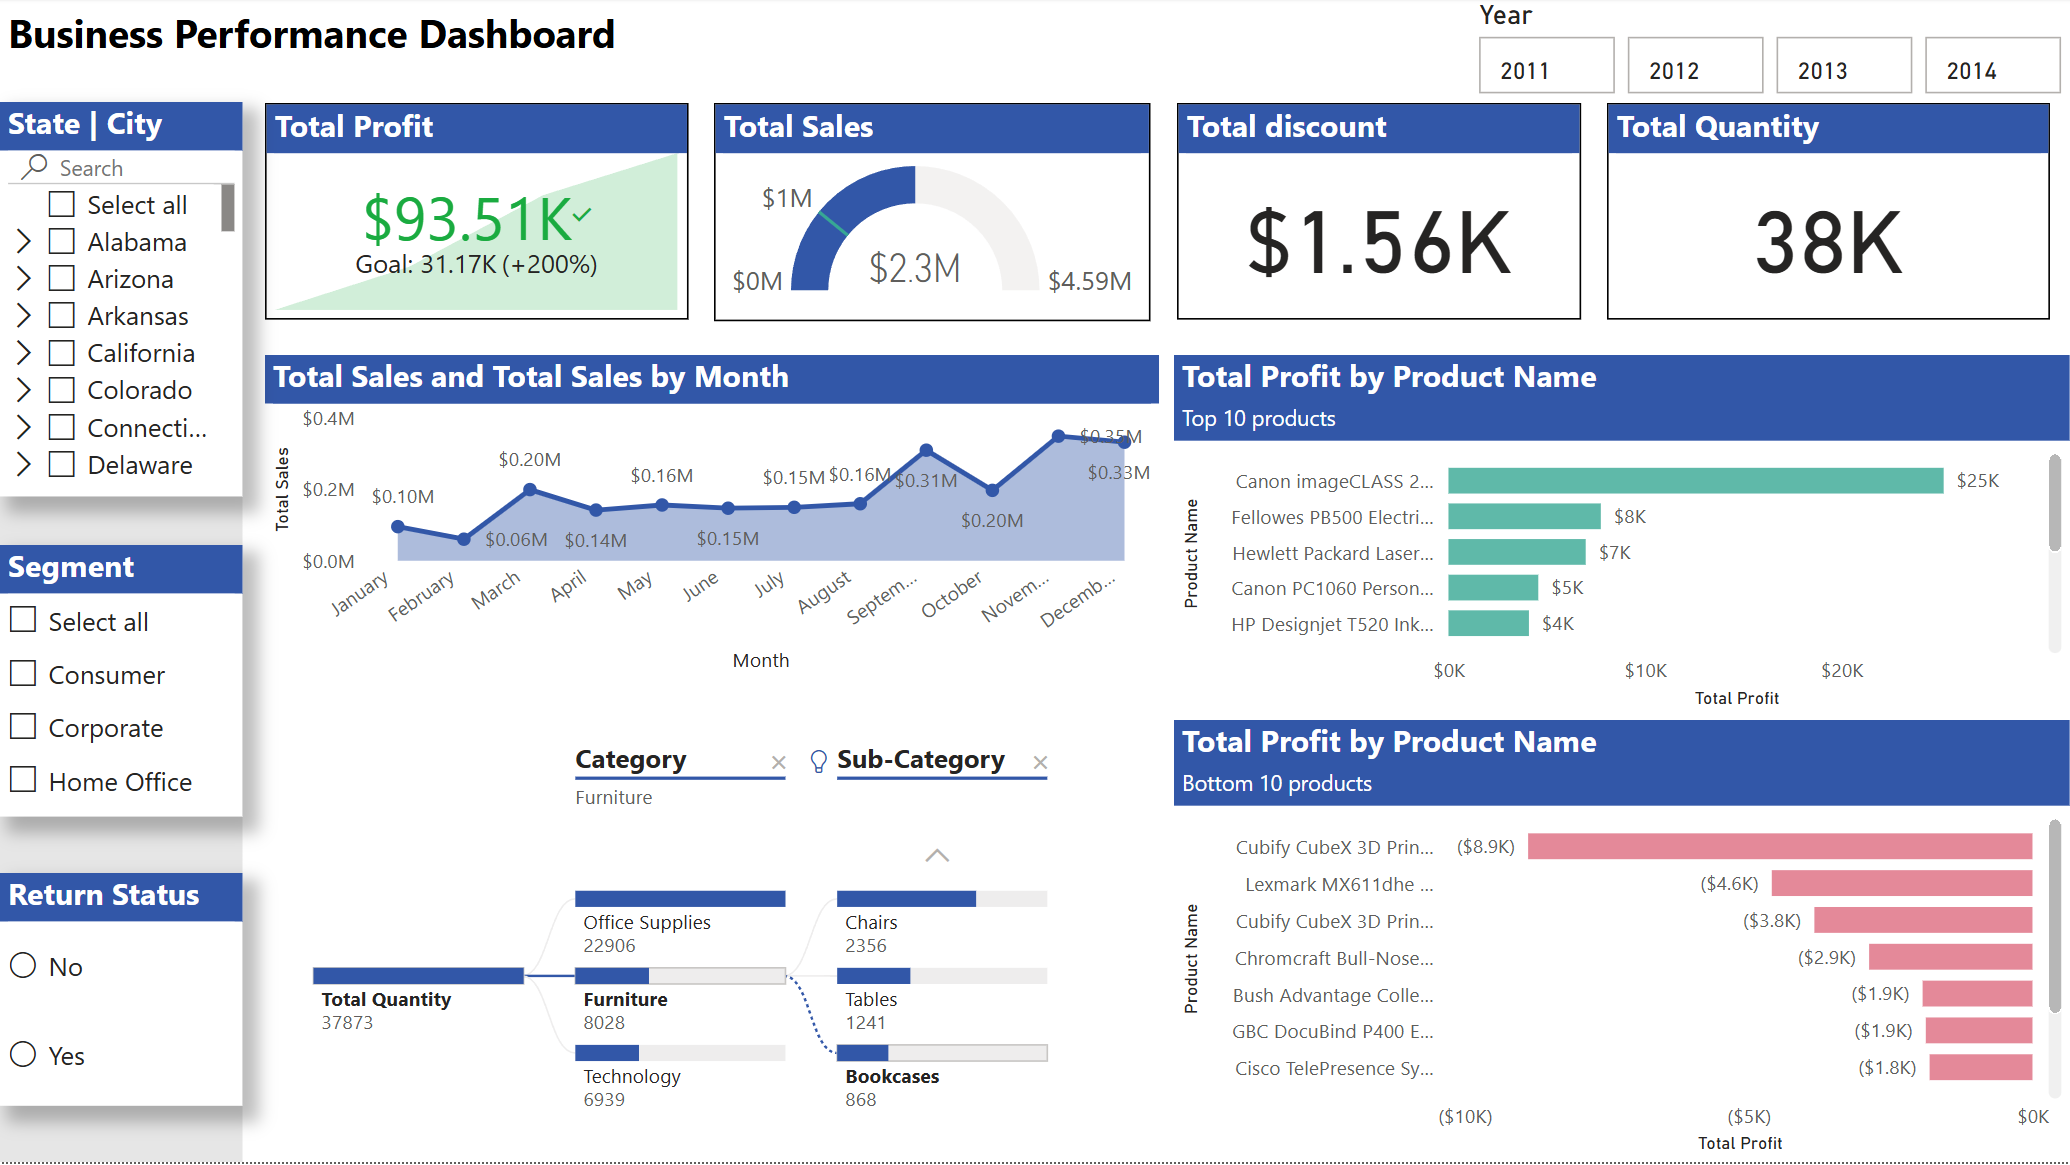

The page's visual inventory and layout, read from the dashboard file:
{"tool":"powerbi","page":{"name":"Page 1","canvas":[1280,720],"ordinal":0},"visuals":[{"type":"kpi","title":"Total Profit ","fields":{"Indicator":["Orders.Total Profit"],"TrendLine":["Orders.Order Date.Variation.Date Hierarchy.Year"],"Goal":["Orders.Total Profit average per Segment"]},"box":[163.9,64.9,261.6,134.2],"z":0},{"type":"lineChart","fields":{"Category":["Orders.Order Date.Variation.Date Hierarchy.Month"],"Y":["Orders.Total Sales"]},"box":[164,220.9,552.8,201.5],"z":1000},{"type":"advancedSlicerVisual","fields":{"Values":["Orders.Order Date.Variation.Date Hierarchy.Year"]},"box":[910,0,370,64.4],"z":2000},{"type":"barChart","fields":{"Category":["Orders.Product Name"],"Y":["Orders.Total Profit"]},"box":[725.9,220.9,554.1,223.5],"z":3000},{"type":"textbox","box":[0,0,393.3,46.6],"z":4000},{"type":"barChart","fields":{"Category":["Orders.Product Name"],"Y":["Orders.Total Profit"]},"box":[725.9,446.9,554.1,272.5],"z":5000},{"type":"textbox","box":[0,64.3,150.3,655.7],"z":6000},{"type":"decompositionTreeVisual","fields":{"Analyze":["Orders.Total Quantity"],"ExplainBy":["Orders.Category","Orders.Sub-Category"]},"box":[164,446.9,554.1,272.5],"z":7000},{"type":"gauge","fields":{"Y":["Orders.Total Sales"]},"box":[441.9,64.9,269.7,134.8],"z":8000},{"type":"card","title":"Total discount","fields":{"Values":["Orders.Total Discount"]},"box":[727.8,64.9,249.9,134.2],"z":9000},{"type":"card","title":"Total Quantity","fields":{"Values":["Orders.Total Quantity"]},"box":[994,64.9,274,134.2],"z":10000},{"type":"listSlicer","title":"State | City","fields":{"Values":["Orders.State","Orders.City"]},"box":[0,64.3,150.3,243.7],"z":11000},{"type":"listSlicer","title":"Segment","fields":{"Values":["Orders.Segment"]},"box":[0,338.4,150.3,167.6],"z":12000},{"type":"listSlicer","fields":{"Values":["Orders.Return Status"]},"box":[0,541.2,150.3,144.1],"z":12001}]}

Visuals, with their boxes in screenshot pixels (x1, y1, x2, y2), scaled from the page's 1280x720 canvas onto the 2070x1165 screenshot:
"Total Profit " kpi: {"left": 265, "top": 105, "right": 688, "bottom": 322}
lineChart - Orders.Order Date.Variation.Date Hierarchy.Month x Orders.Total Sales: {"left": 265, "top": 357, "right": 1159, "bottom": 683}
advancedSlicerVisual - Orders.Order Date.Variation.Date Hierarchy.Year: {"left": 1472, "top": 0, "right": 2069, "bottom": 104}
barChart - Orders.Product Name x Orders.Total Profit: {"left": 1174, "top": 357, "right": 2069, "bottom": 719}
textbox: {"left": 0, "top": 0, "right": 636, "bottom": 75}
barChart - Orders.Product Name x Orders.Total Profit: {"left": 1174, "top": 723, "right": 2069, "bottom": 1164}
textbox: {"left": 0, "top": 104, "right": 243, "bottom": 1164}
decompositionTreeVisual - Orders.Total Quantity x Orders.Category: {"left": 265, "top": 723, "right": 1161, "bottom": 1164}
gauge - Orders.Total Sales: {"left": 715, "top": 105, "right": 1151, "bottom": 323}
"Total discount" card: {"left": 1177, "top": 105, "right": 1581, "bottom": 322}
"Total Quantity" card: {"left": 1607, "top": 105, "right": 2051, "bottom": 322}
"State | City" listSlicer: {"left": 0, "top": 104, "right": 243, "bottom": 498}
"Segment" listSlicer: {"left": 0, "top": 548, "right": 243, "bottom": 819}
listSlicer - Orders.Return Status: {"left": 0, "top": 876, "right": 243, "bottom": 1109}
